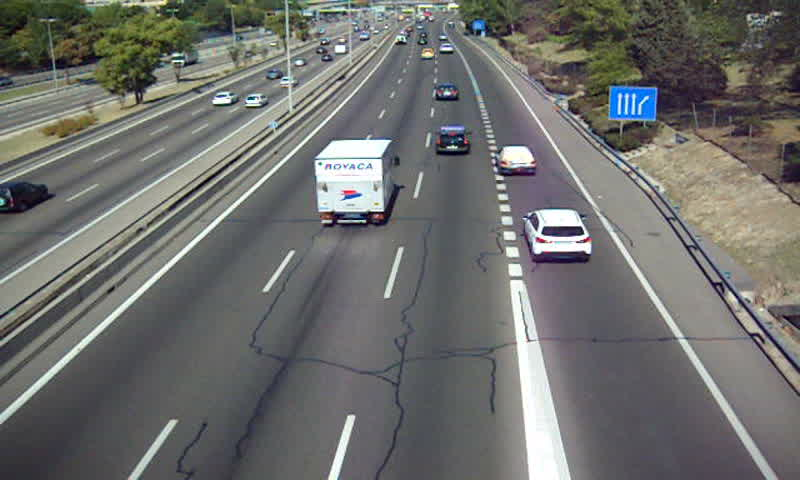car: (520, 208, 592, 261), (496, 146, 537, 175), (435, 126, 471, 154), (435, 83, 458, 102), (439, 42, 454, 54), (419, 47, 434, 58)
small-truck: (314, 139, 399, 227)
